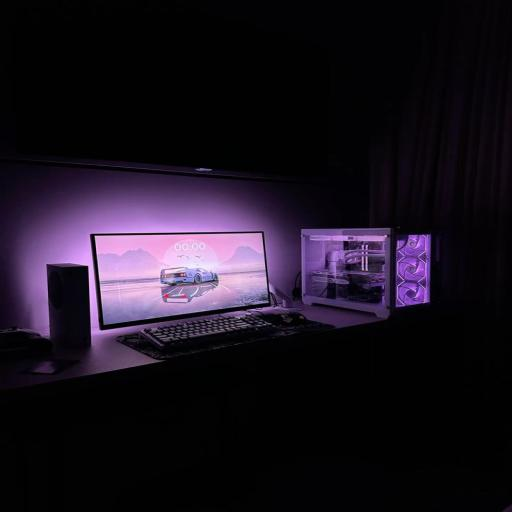computer case: (301, 228, 438, 318)
monitor: (91, 232, 270, 329)
